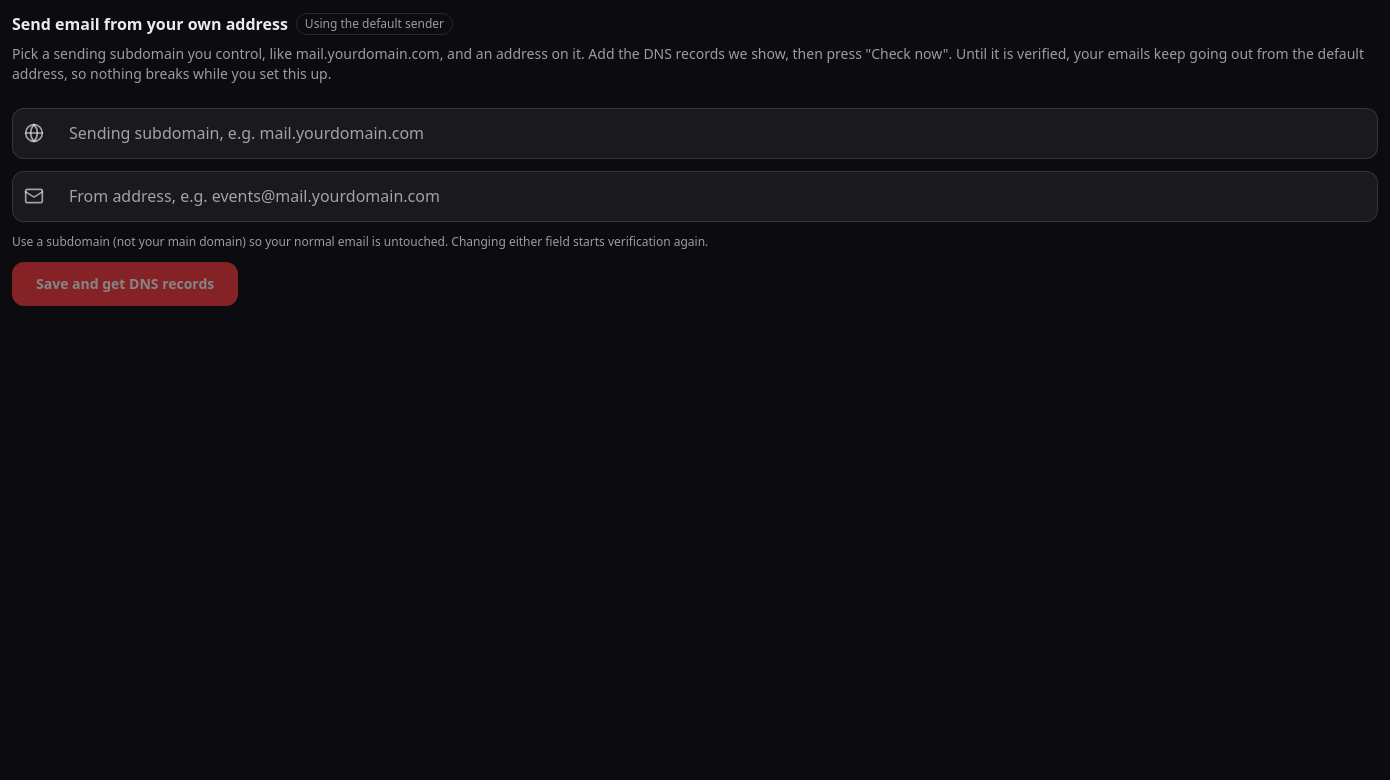
Scenario: EmailDomainPanel › saves a sender and shows the records and per-record status
The image size is (1390, 780).
In the field with placeholder "Sending subdomain, e.g. mail.yourdomain.com": (695, 133) [12,108,1378,159], type "mail.partner.example.org"
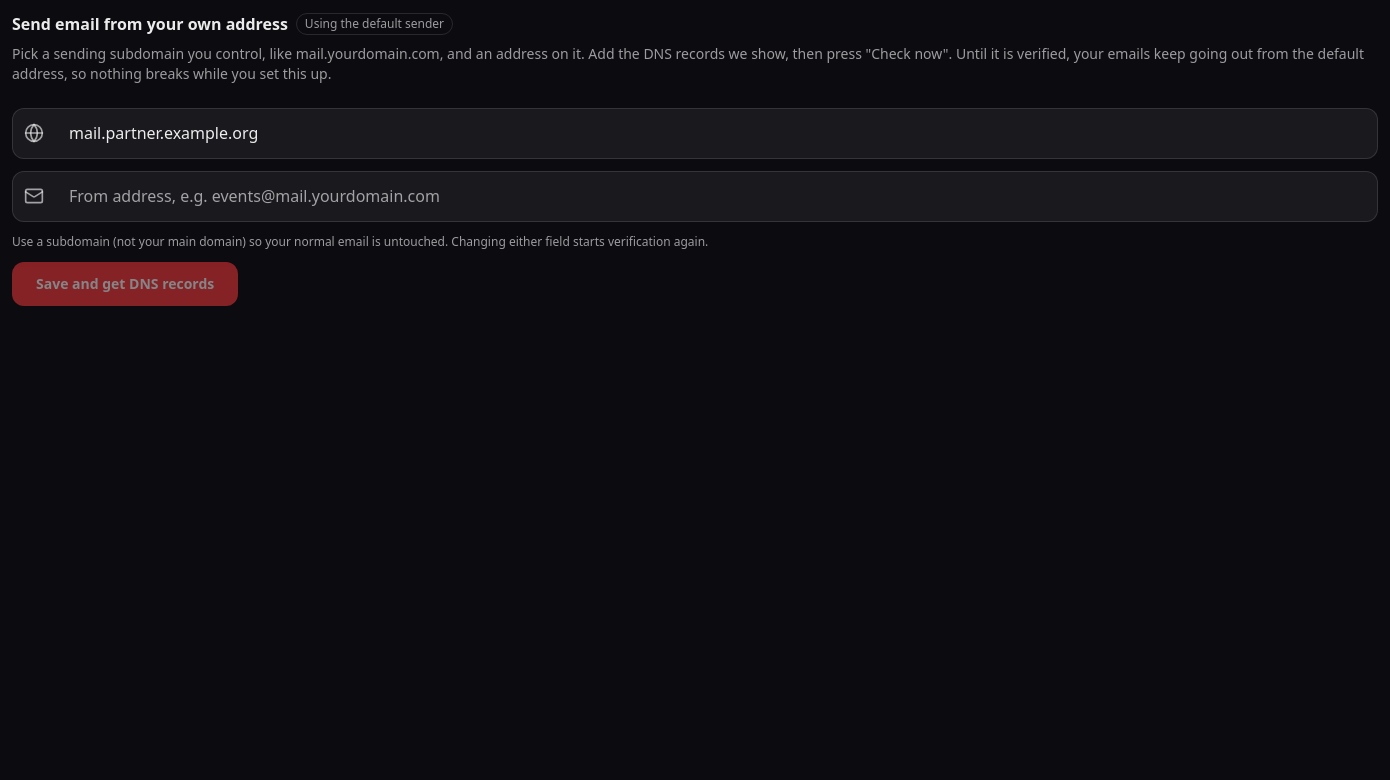
In the field with placeholder "From address, e.g. events@mail.yourdomain.com": (695, 196) [12,171,1378,222], type "events@mail.partner.example.org"
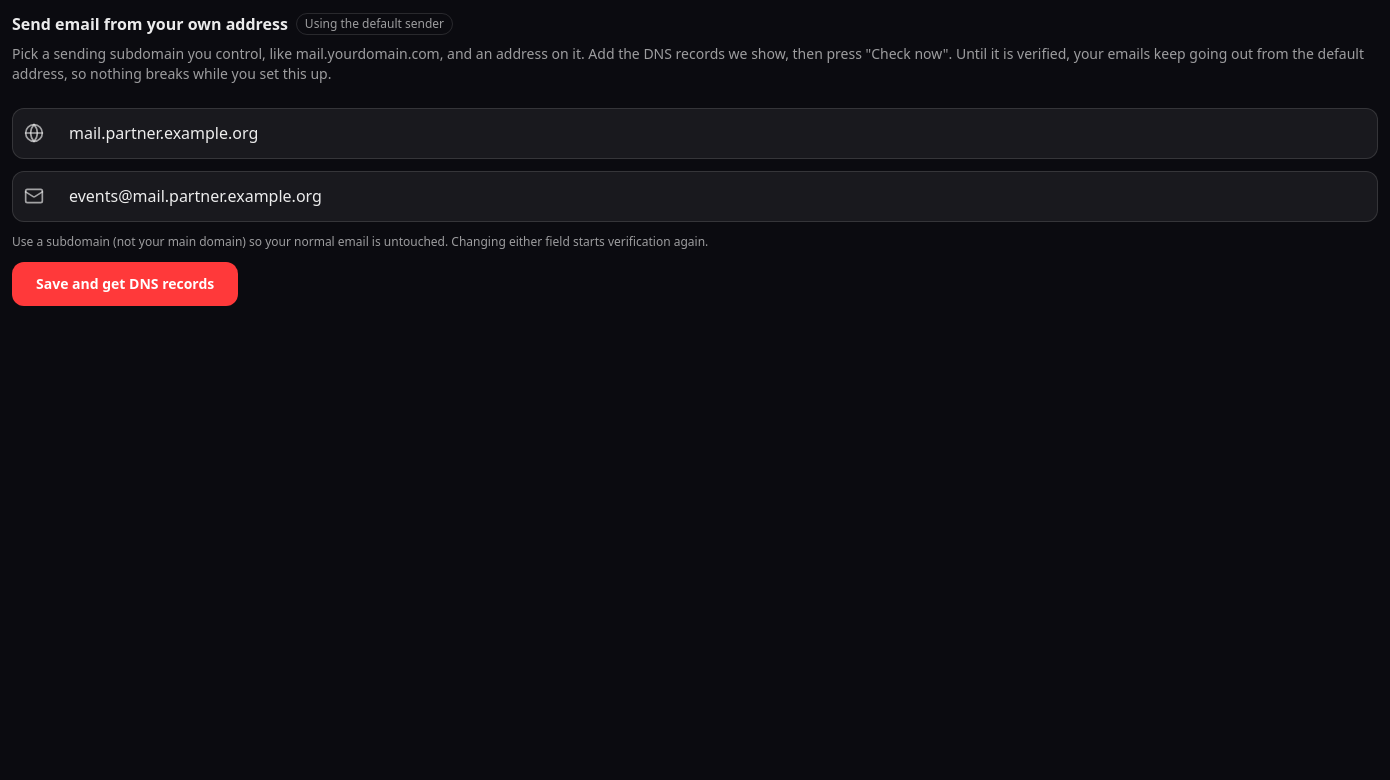
Click the button "Save and get DNS records": (125, 284) [12,262,238,306]
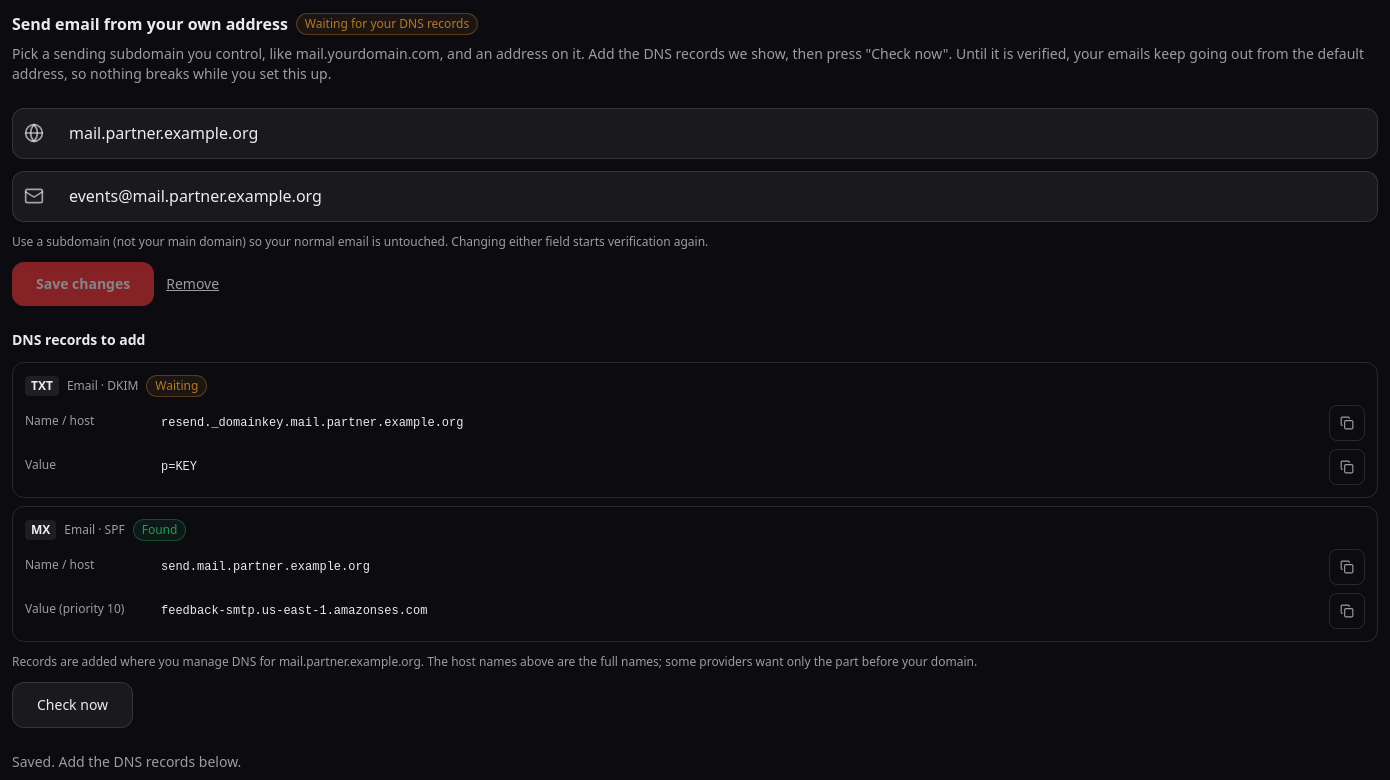
Now the text "resend._domainkey.mail.partner.example.org" is shown, box [161,416,464,430]
Now the text "Found" is shown, box [133,519,186,541]
Now the text "Waiting" is shown, box [146,375,207,397]
